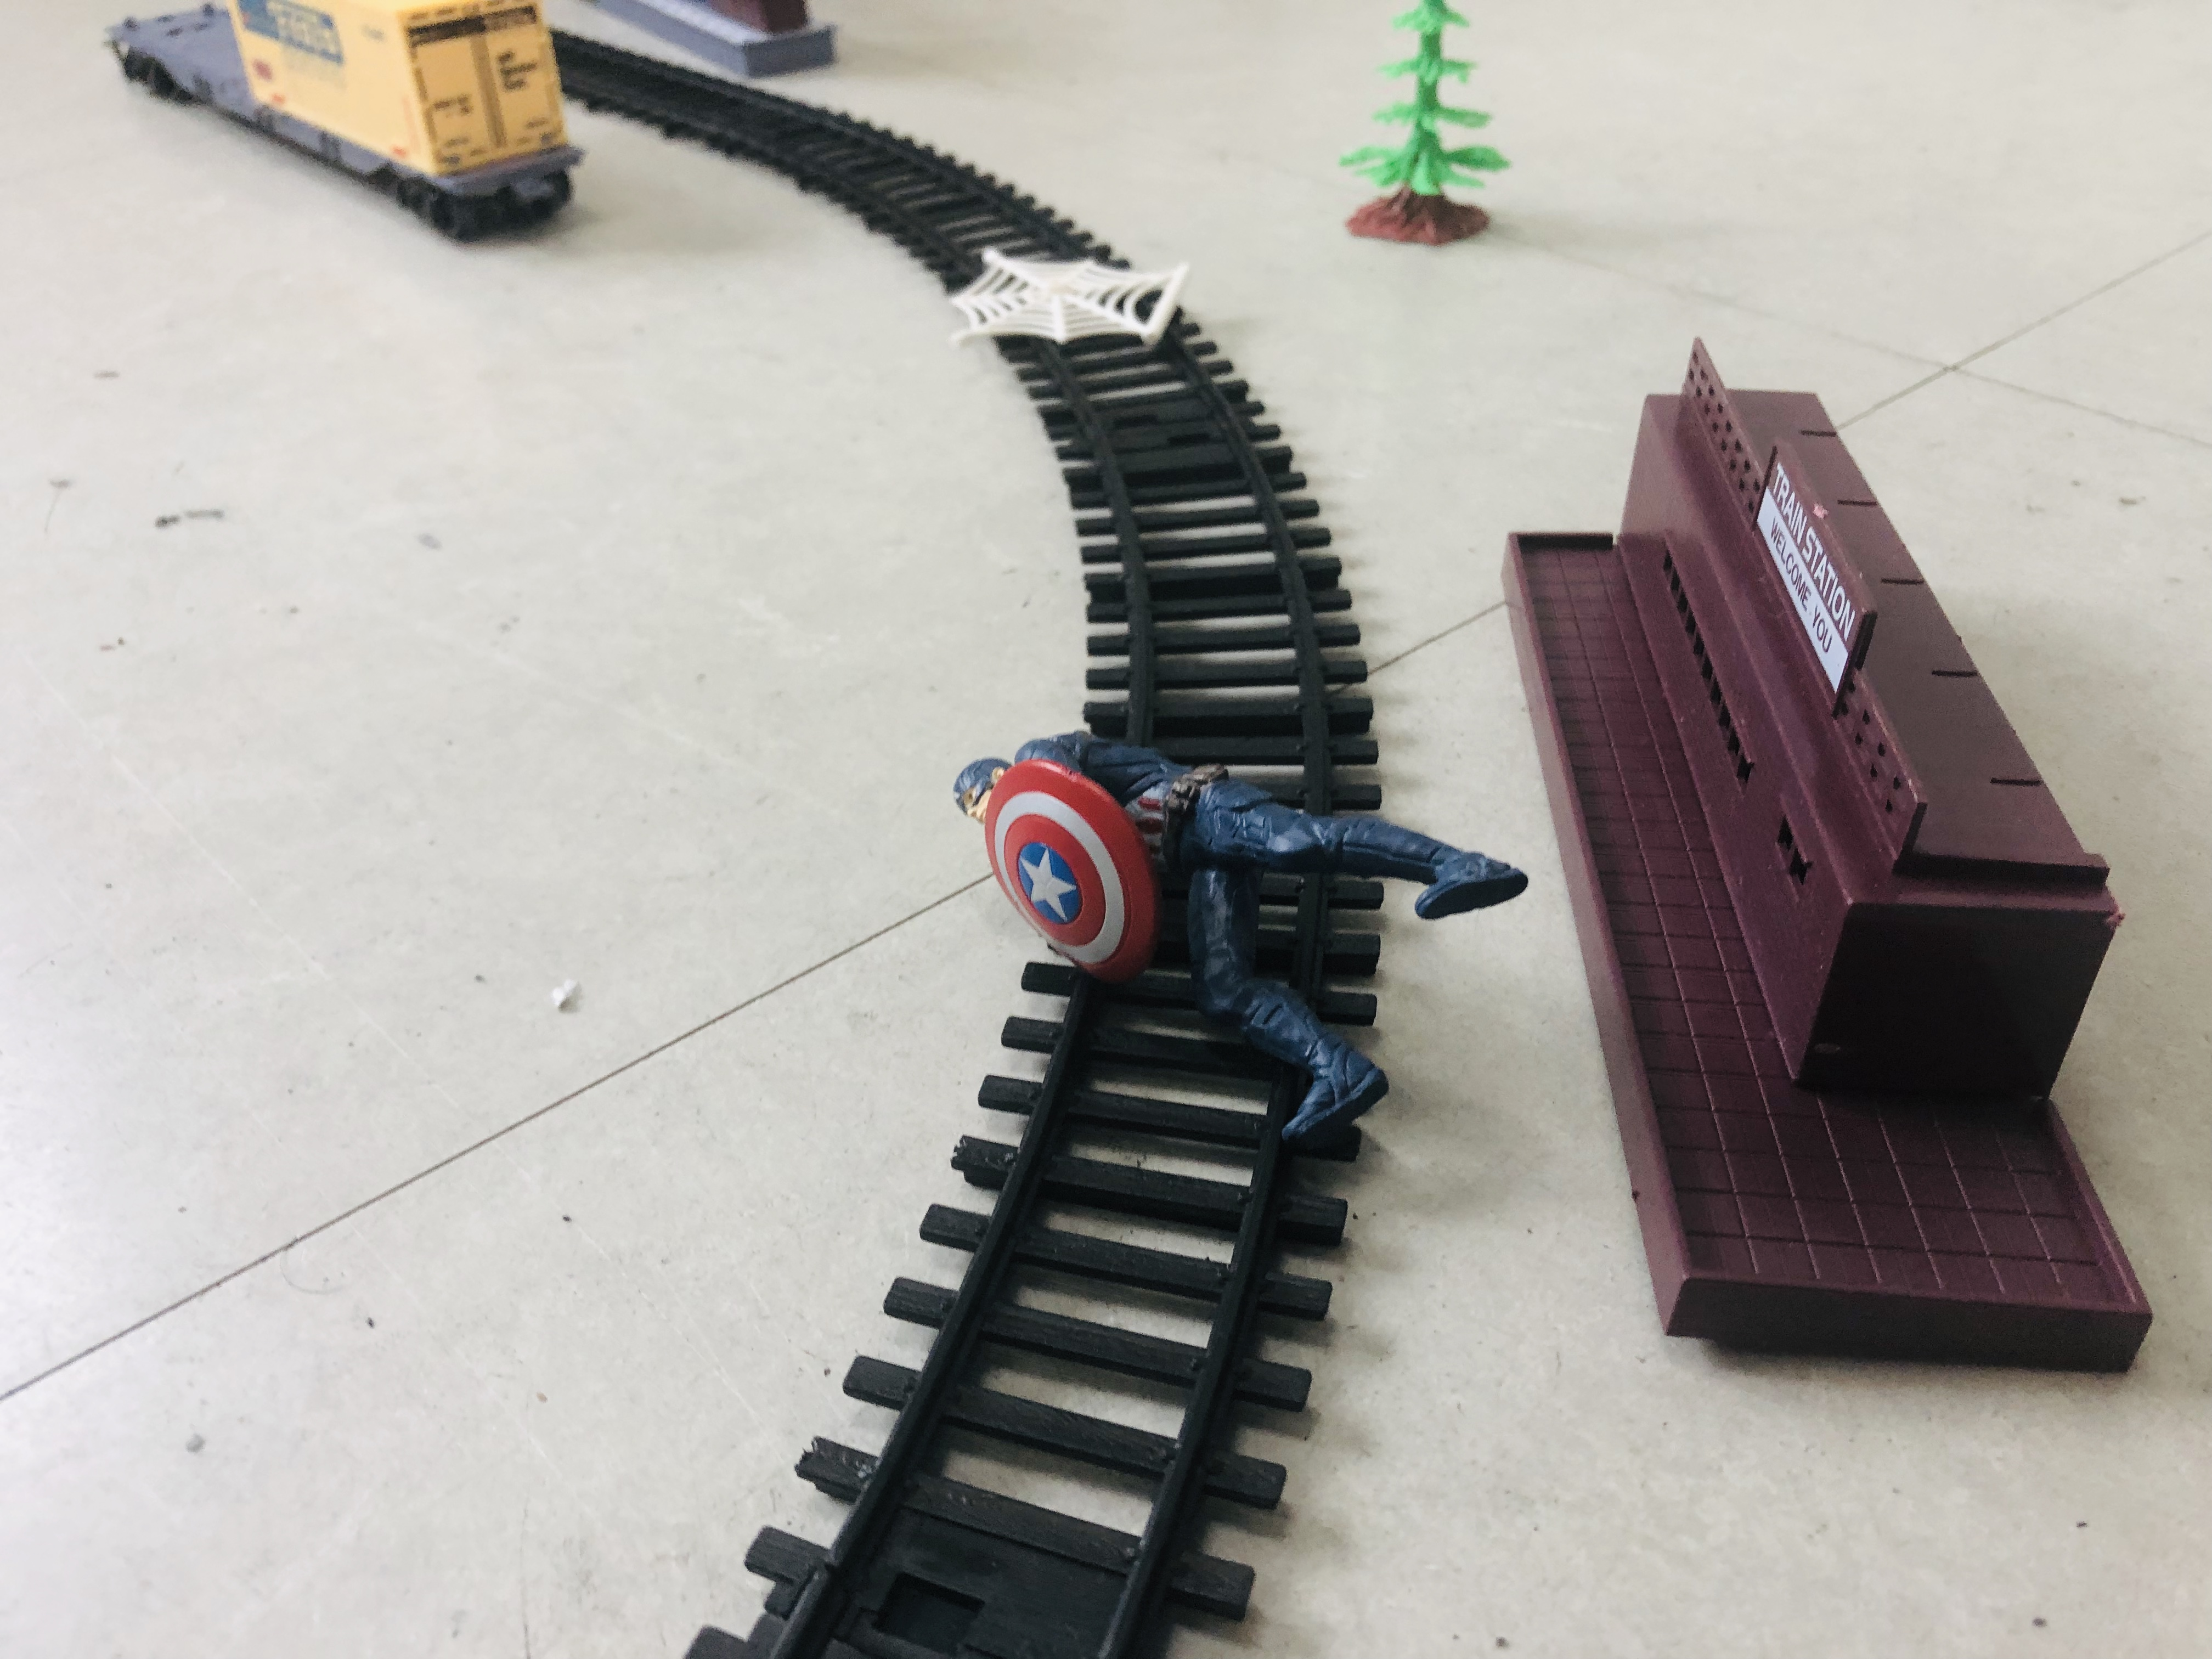people: (892, 723, 1557, 1113)
tree: (1282, 1, 1520, 272)
web: (911, 229, 1166, 363)
